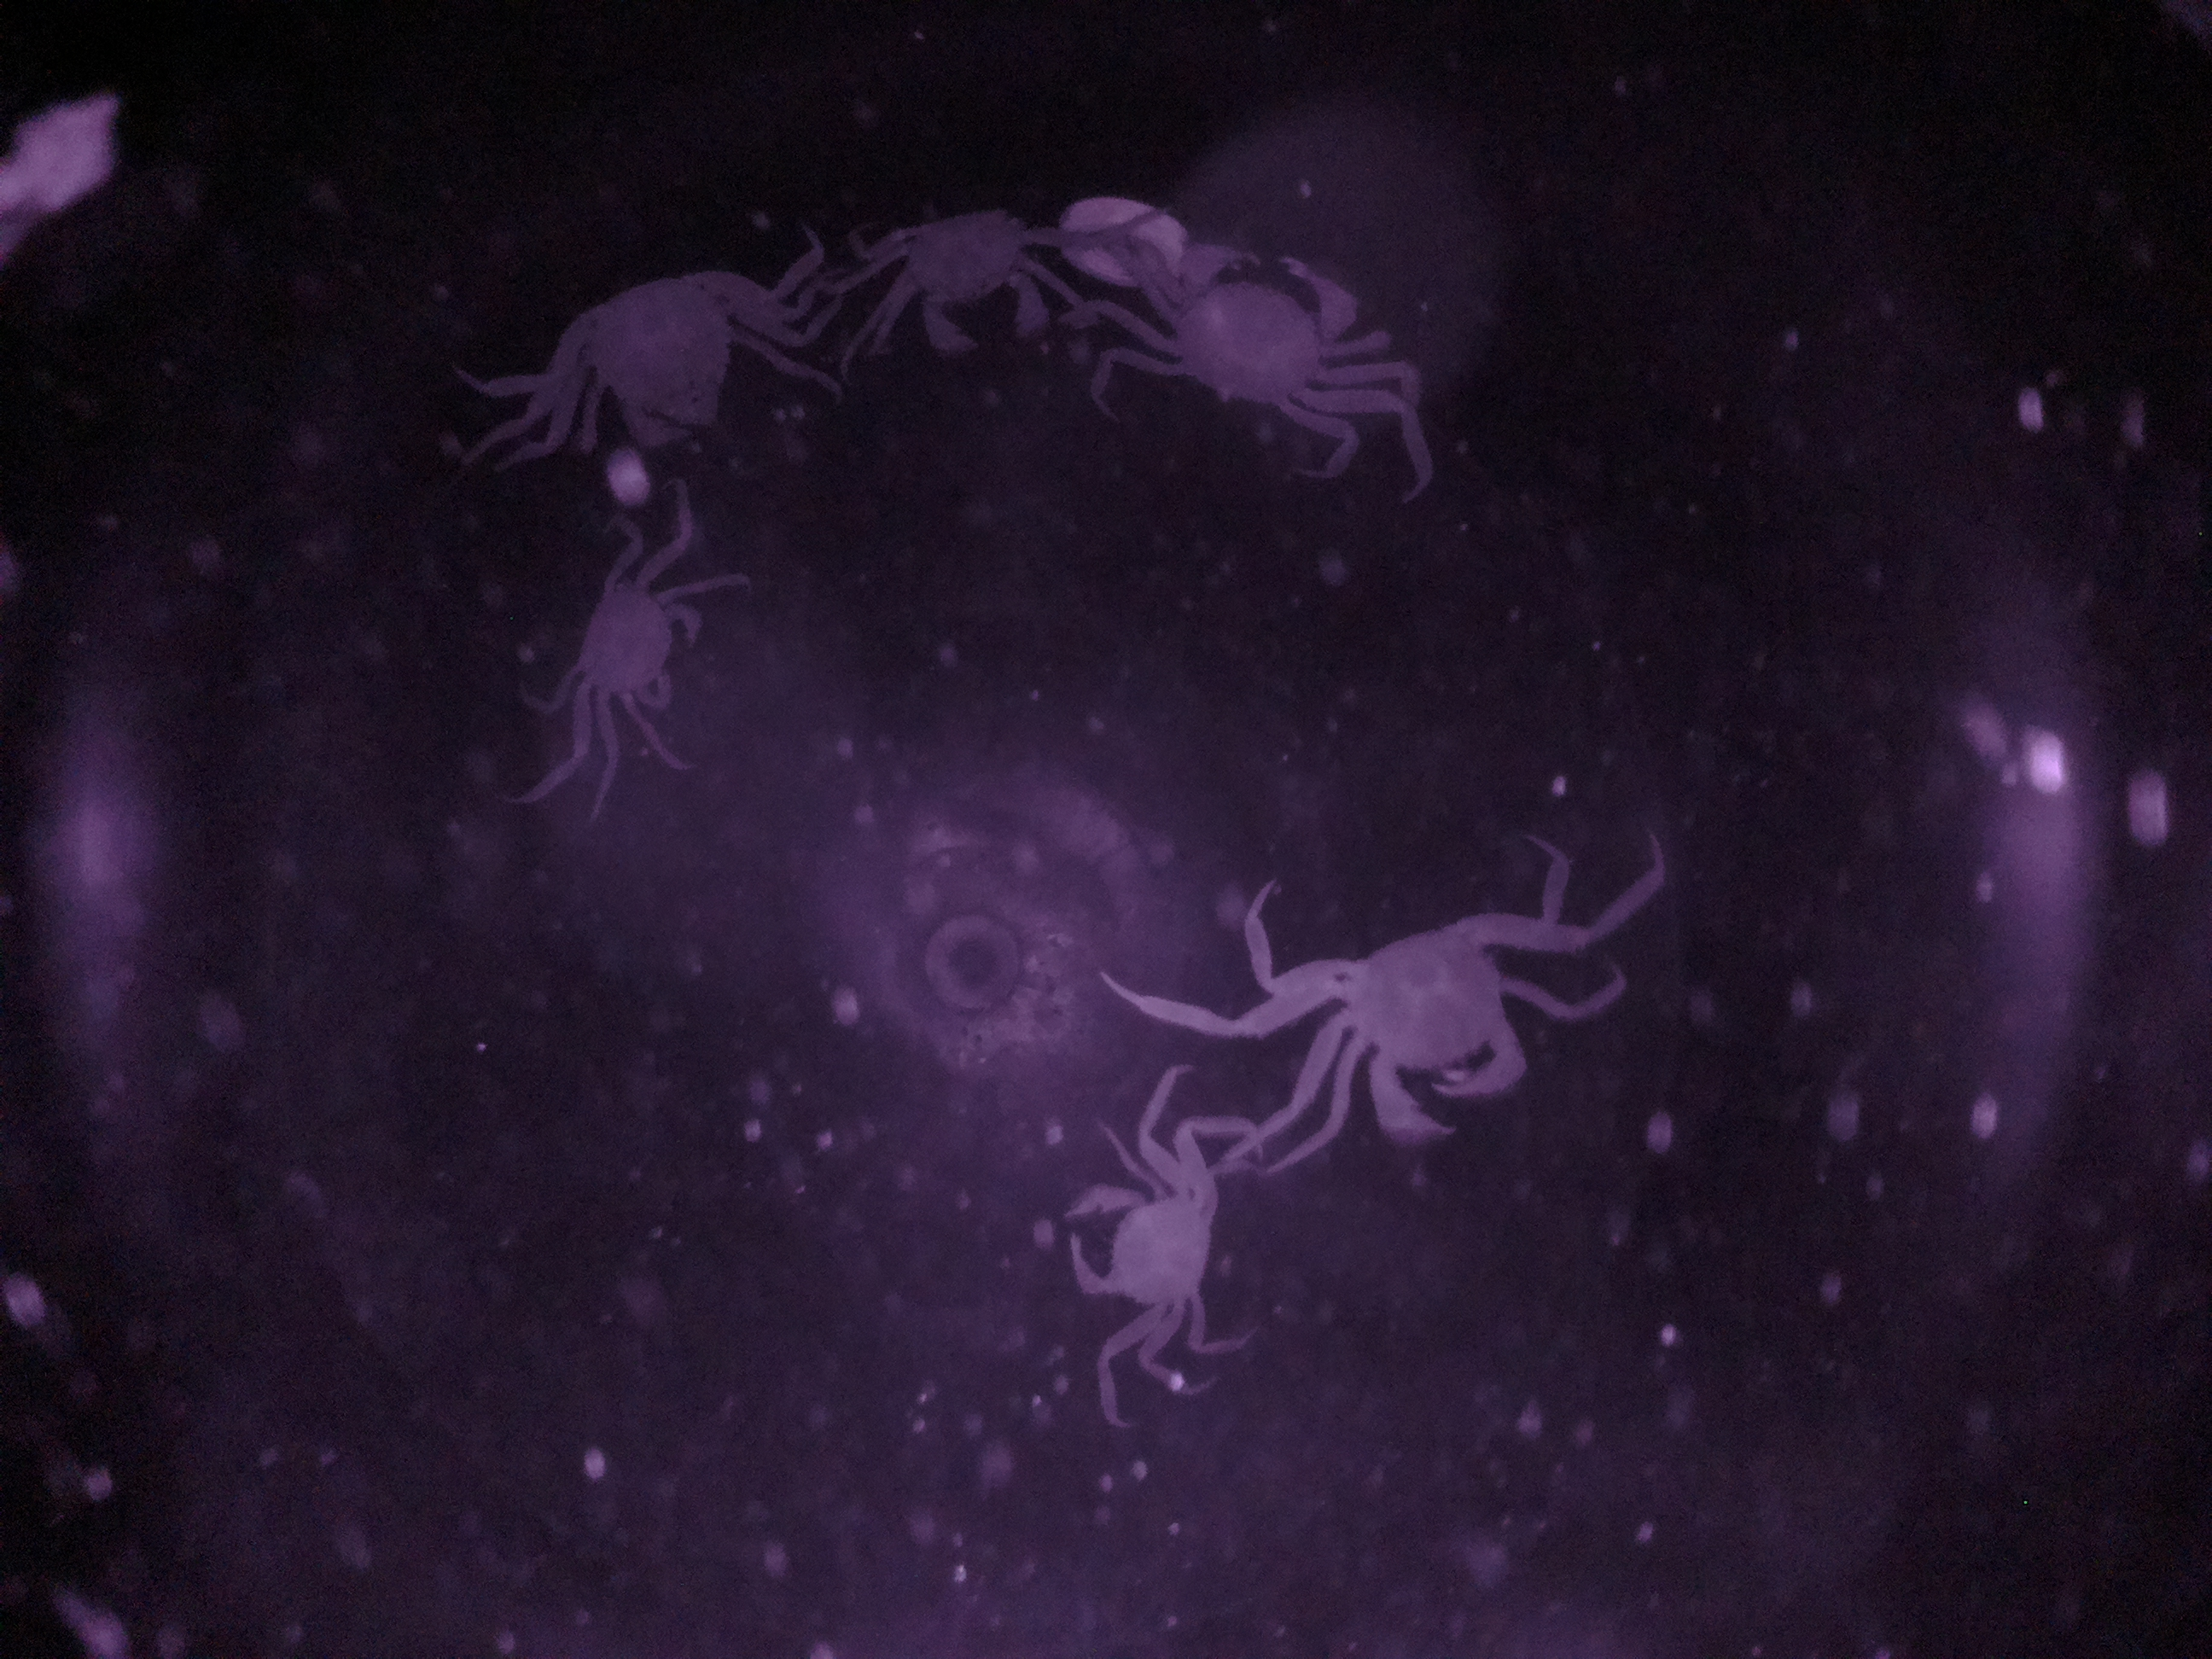Crab: (1296, 897, 1557, 1159), (1144, 230, 1385, 427), (1042, 1131, 1247, 1347), (547, 540, 728, 735), (874, 190, 1059, 373)
